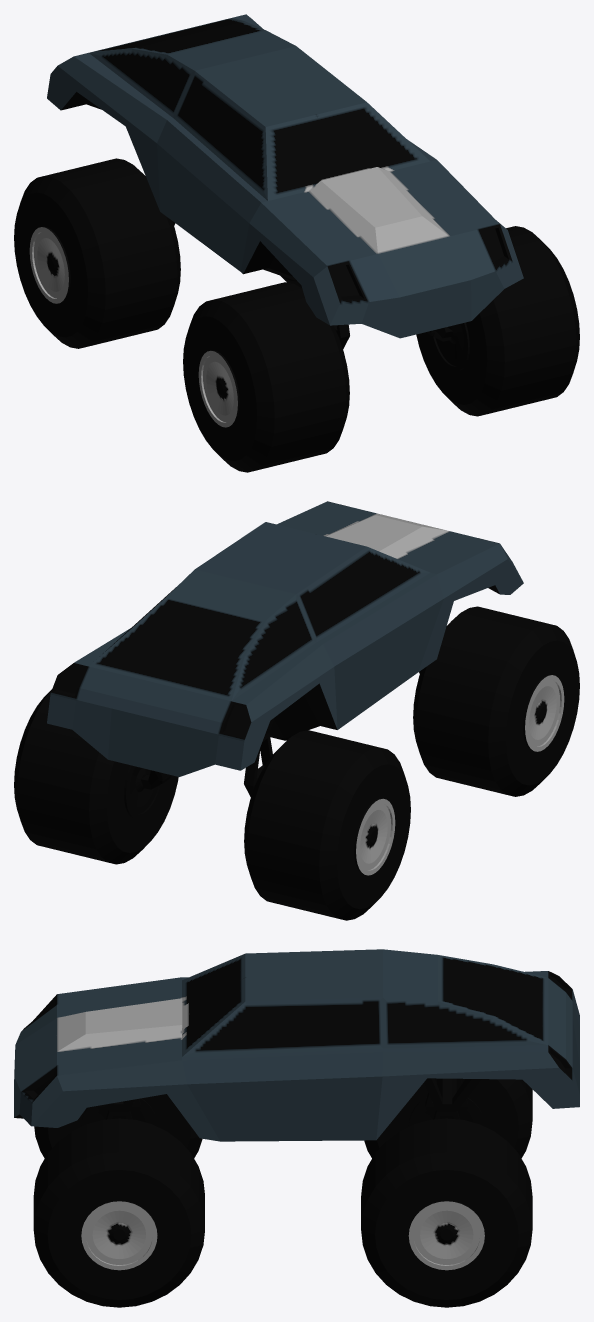
File: Monstercar.fbx
3 renders of one model, top to bottom at view 1: azimuth 30°, elevation 25°; view 2: azimuth 150°, elevation 25°; view 3: azimuth 270°, elevation 25°, orthographic. The views are drawn at different scales.
Visible parts, largest first — view 1: MonsterCarBody, WheelRR, WheelFR, WheelFL; view 2: MonsterCarBody, WheelRR, WheelFR, WheelRL, Springs; view 3: MonsterCarBody, WheelFL, WheelRL, WheelRR, WheelFR, Springs.
Boxes of the visible parts, <box> form: MonsterCarBody: <box>47,14,523,338</box>; WheelRR: <box>14,158,180,348</box>; WheelFR: <box>183,282,349,472</box>; WheelFL: <box>416,226,579,416</box>; MonsterCarBody: <box>47,501,523,776</box>; WheelRR: <box>244,730,410,920</box>; WheelFR: <box>413,606,579,796</box>; WheelRL: <box>14,689,178,864</box>; Springs: <box>141,671,420,797</box>; MonsterCarBody: <box>14,949,579,1141</box>; WheelFL: <box>33,1118,204,1307</box>; WheelRL: <box>361,1118,532,1307</box>; WheelRR: <box>364,1078,532,1158</box>; WheelFR: <box>34,1094,202,1158</box>; Springs: <box>98,1078,481,1119</box>.
Size of the model in its own units: 175 by 139 by 271.
Materials: 1 (1 with a texture image).
